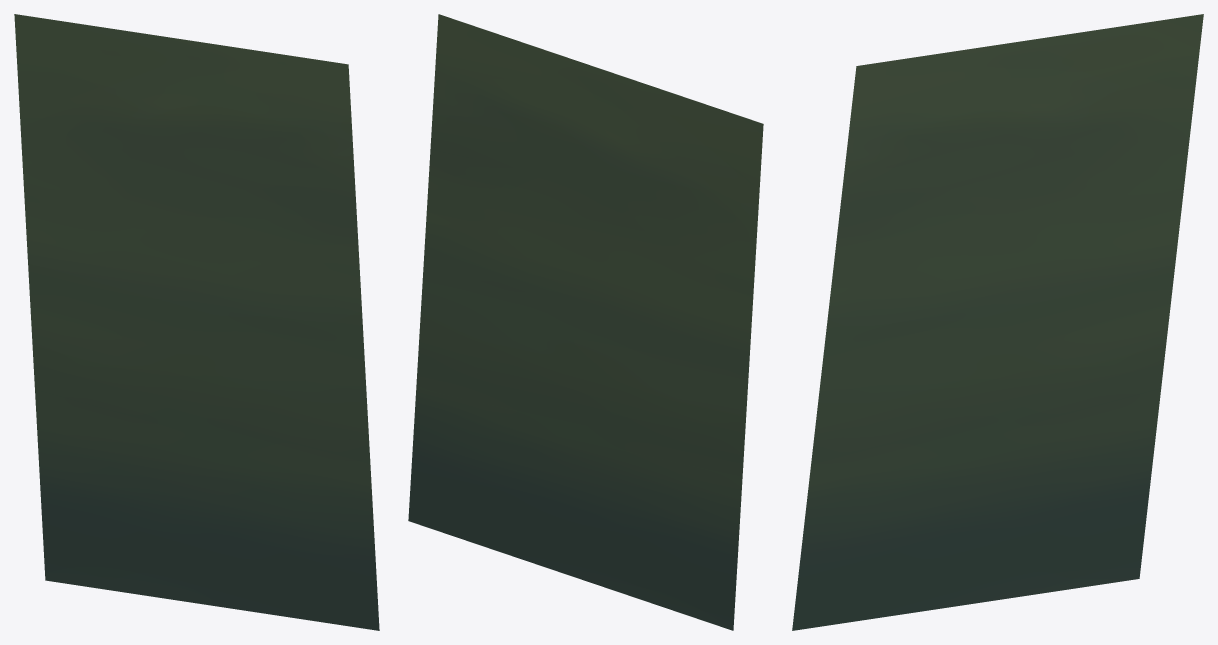
The model's file is pplane62_lambert6_0_lev2.glb.
3 views of the same model, side by side, from view 1: azimuth 30°, elevation 25°; view 2: azimuth 210°, elevation 25°; view 3: azimuth 270°, elevation 25° (orthographic). The views are drawn at different scales.
Parts seen in each view (by area): view 1: pplane62_lambert6_0_lev2; view 2: pplane62_lambert6_0_lev2; view 3: pplane62_lambert6_0_lev2.
Boxes of the visible parts, bbox=[...] form: pplane62_lambert6_0_lev2: bbox=[14, 14, 379, 630]; pplane62_lambert6_0_lev2: bbox=[408, 14, 763, 630]; pplane62_lambert6_0_lev2: bbox=[792, 14, 1203, 630].
Bounding box in the file's own units: 0.05 × 0.1646 × 0.1028.
Materials: 1 (1 with a texture image).
